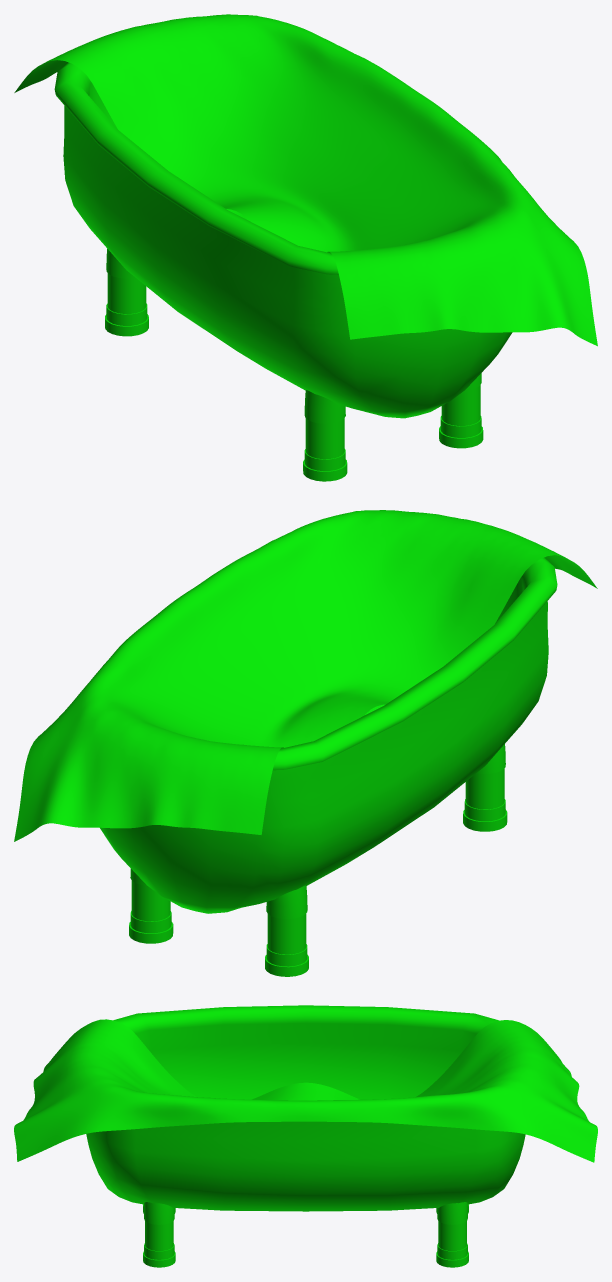
The model's file is PateintTubwithCloth.fbx.
The picture shows the model from 3 angles, top to bottom: view 1: azimuth 30°, elevation 25°; view 2: azimuth 150°, elevation 25°; view 3: azimuth 270°, elevation 25°; orthographic projection. The views are drawn at different scales.
Visible parts, largest first — view 1: TubwithCloth; view 2: TubwithCloth; view 3: TubwithCloth.
Part boxes in pixels (box(x1,y1,x2,y2)): TubwithCloth: box(14, 14, 597, 481); TubwithCloth: box(14, 510, 597, 976); TubwithCloth: box(14, 1005, 597, 1267).
Size of the model in its own units: 1.23 by 0.9743 by 2.82.
